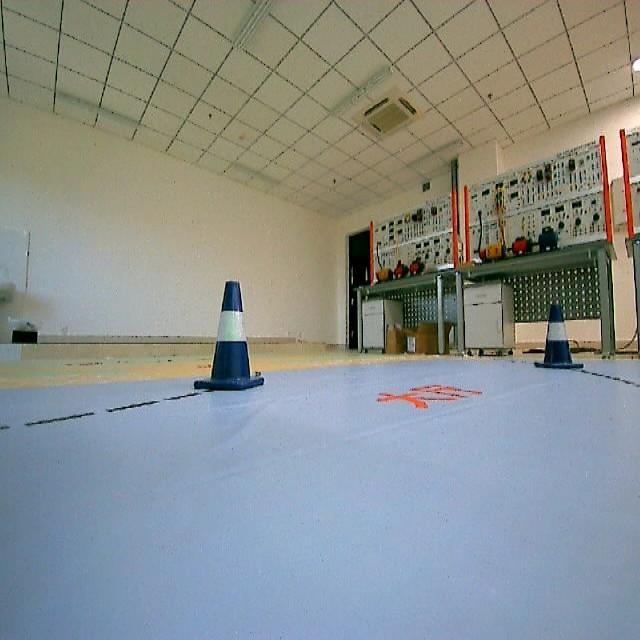obstacle: (180, 264, 274, 402), (526, 301, 588, 381)
